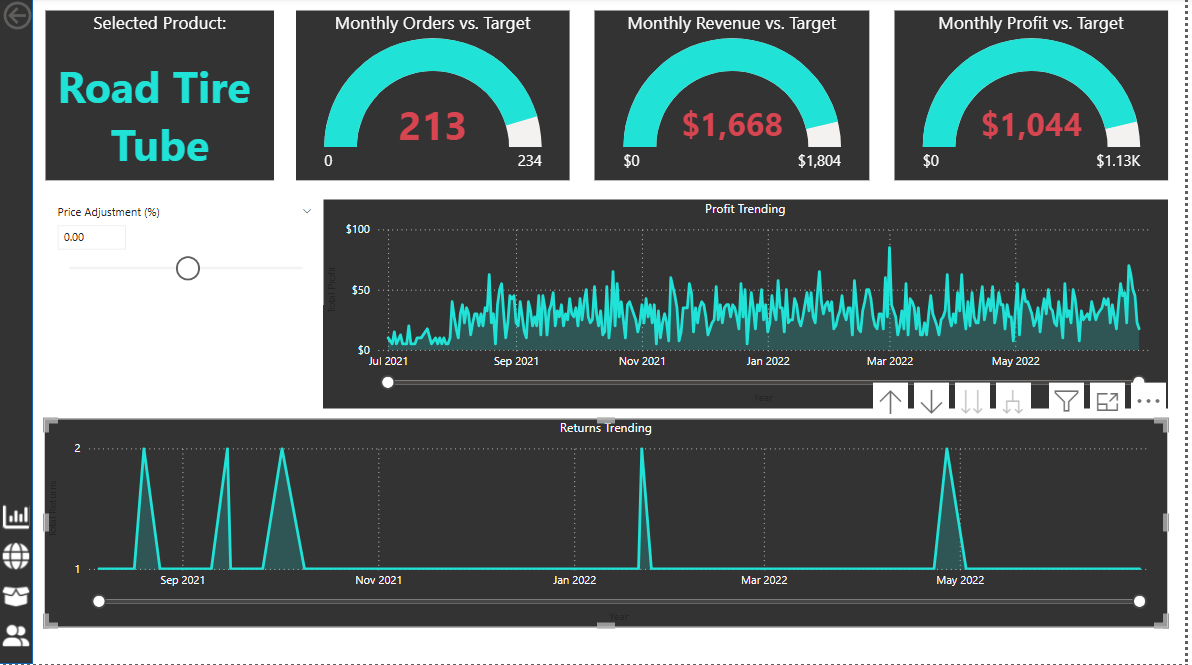

What the dashboard file says about the page in this screenshot:
{"tool":"powerbi","page":{"name":"Product Detail","canvas":[1280,720],"ordinal":2},"visuals":[{"type":"shape","box":[0,0,36.7,720],"z":0},{"type":"gauge","title":"Monthly Orders vs. Target","fields":{"Y":["Measure Table.Total Orders"],"MaxValue":["Measure Table.Order Target"]},"box":[320,15,295,183.3],"z":1000},{"type":"gauge","title":"Monthly Profit vs. Target","fields":{"Y":["Measure Table.Total Profit"],"MaxValue":["Measure Table.Profit Target"]},"box":[966.7,15,295,183.3],"z":2000},{"type":"actionButton","box":[0,531.7,36.7,60],"z":2000,"group":"g1"},{"type":"gauge","title":"Monthly Revenue vs. Target","fields":{"Y":["Measure Table.Total Revenue"],"MaxValue":["Measure Table.Revenue Target"]},"box":[643.3,15,296.7,183.3],"z":3000},{"type":"actionButton","box":[0,617.3,36.7,60],"z":3000,"group":"g1"},{"type":"areaChart","title":"Profit Trending","fields":{"Y":["Measure Table.Total Profit"],"Category":["Calendar Lookup.Date.Variation.Date Hierarchy.Year","Calendar Lookup.Date.Variation.Date Hierarchy.Quarter","Calendar Lookup.Date.Variation.Date Hierarchy.Month","Calendar Lookup.Date.Variation.Date Hierarchy.Day"]},"box":[350,218.3,911.7,225],"z":4000},{"type":"actionButton","box":[0,660,36.7,60],"z":4000,"group":"g1"},{"type":"areaChart","title":"Returns Trending","fields":{"Y":["Measure Table.Total Returns"],"Category":["Calendar Lookup.Date.Variation.Date Hierarchy.Year","Calendar Lookup.Date.Variation.Date Hierarchy.Quarter","Calendar Lookup.Date.Variation.Date Hierarchy.Month","Calendar Lookup.Date.Variation.Date Hierarchy.Day"]},"box":[48.3,455,1213.3,225],"z":5000},{"type":"actionButton","box":[0,574.5,36.7,60],"z":5000,"group":"g1"},{"type":"actionButton","box":[0,0,100,40],"z":6000},{"type":"card","title":"Selected Product:","fields":{"Values":["Min(Product Lookup.ProductName)"]},"box":[50,15,246.7,183.3],"z":7000},{"type":"group","id":"g1","title":"Navigation Buttons","box":[0,531.7,36.7,188.3],"z":8000},{"type":"slicer","fields":{"Values":["Price Adjustment (%).Price Adjustment (%)"]},"box":[50,218.3,300,113.3],"z":9000}]}

Visuals, with their boxes on the page's 1280x720 design canvas (x1, y1, x2, y2). These are canvas units, not pixel positions in the 1192x665 screenshot, which may show the page scaled, cropped or inside an application window:
shape: box(0, 0, 37, 720)
"Monthly Orders vs. Target" gauge: box(320, 15, 615, 198)
"Monthly Profit vs. Target" gauge: box(967, 15, 1262, 198)
actionButton: box(0, 532, 37, 592)
"Monthly Revenue vs. Target" gauge: box(643, 15, 940, 198)
actionButton: box(0, 617, 37, 677)
"Profit Trending" areaChart: box(350, 218, 1262, 443)
actionButton: box(0, 660, 37, 720)
"Returns Trending" areaChart: box(48, 455, 1262, 680)
actionButton: box(0, 574, 37, 634)
actionButton: box(0, 0, 100, 40)
"Selected Product:" card: box(50, 15, 297, 198)
"Navigation Buttons" group: box(0, 532, 37, 720)
slicer - Price Adjustment (%).Price Adjustment (%): box(50, 218, 350, 332)
